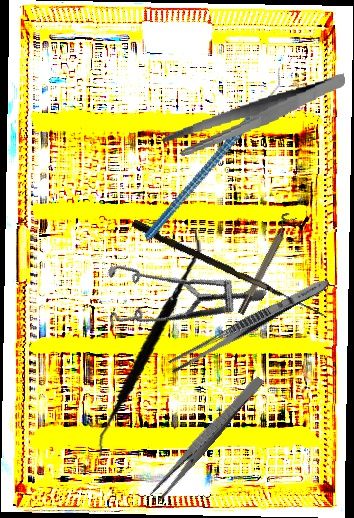Chopper: (105, 67, 322, 241)
Dressing Forceps: (166, 273, 333, 377), (158, 73, 351, 158), (148, 372, 266, 504)
Fixation Ring: (231, 210, 298, 317)
Hook Surgical: (129, 219, 330, 317)
Spatula Surgical: (73, 229, 222, 458)
Speculum: (83, 211, 268, 389)
